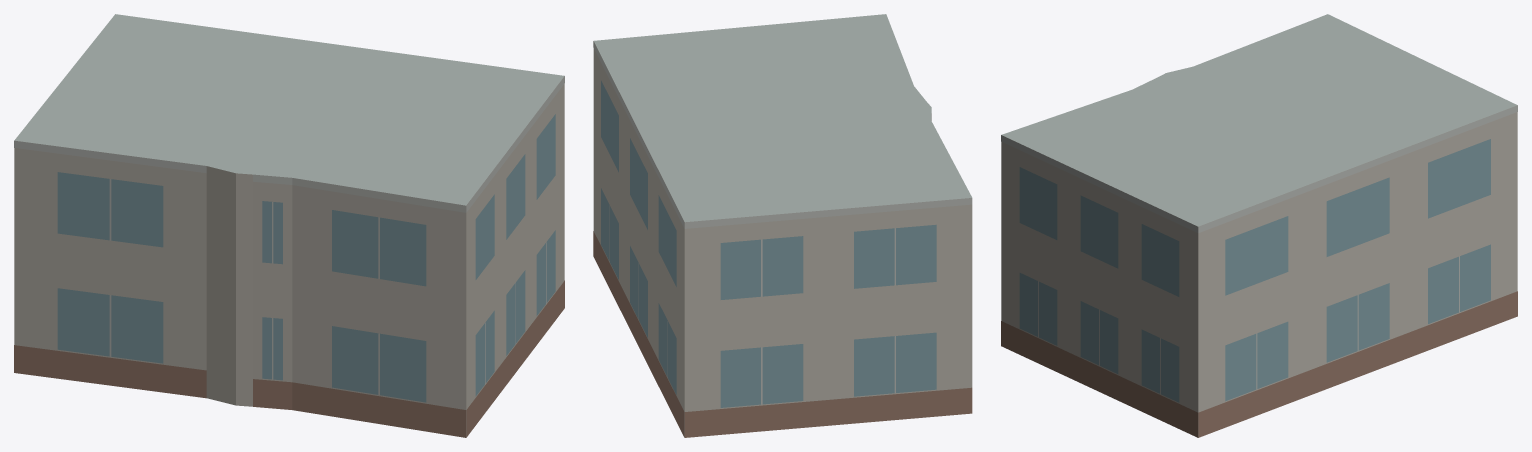
The model's file is survey-upis-32625110.glb.
3 renders of one model, left to right at view 1: azimuth 30°, elevation 25°; view 2: azimuth 150°, elevation 25°; view 3: azimuth 270°, elevation 25°, orthographic. The views are drawn at different scales.
Parts seen in each view (by area): view 1: survey-upis-32625110.tmp; view 2: survey-upis-32625110.tmp; view 3: survey-upis-32625110.tmp.
Boxes of the visible parts, x1=… form: survey-upis-32625110.tmp: x1=14, y1=14, x2=564, y2=437; survey-upis-32625110.tmp: x1=593, y1=14, x2=972, y2=437; survey-upis-32625110.tmp: x1=1001, y1=14, x2=1517, y2=437.
Size of the model in its own units: 16.86 by 7.8 by 17.3.
